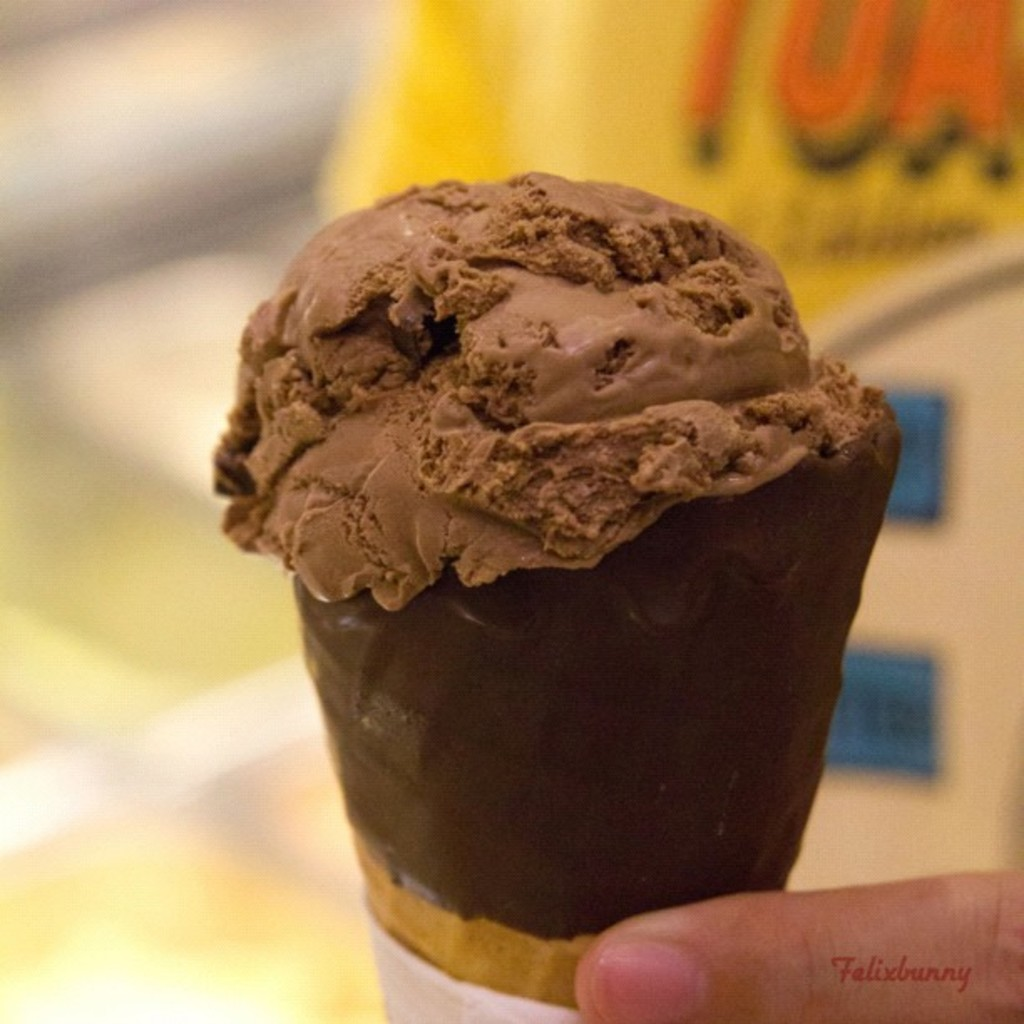Human_hand: (575, 867, 1024, 1024)
